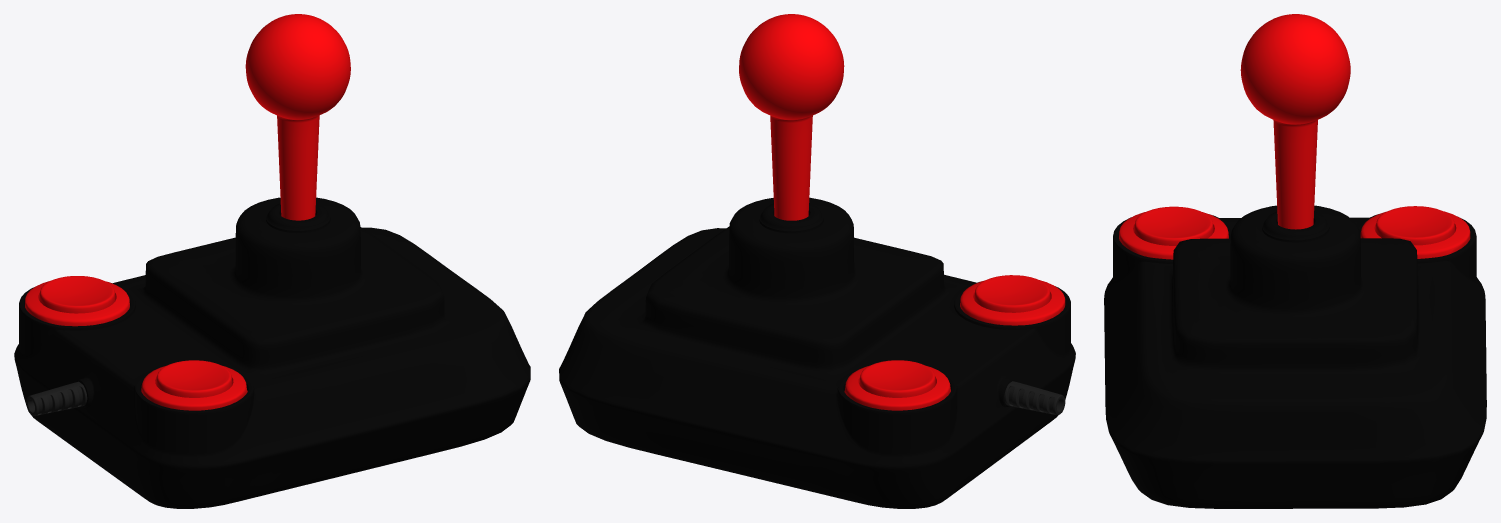
File: joystick.glb
The picture shows the model from 3 angles, left to right: view 1: azimuth 30°, elevation 25°; view 2: azimuth 150°, elevation 25°; view 3: azimuth 270°, elevation 25°; orthographic projection. The views are drawn at different scales.
Visible parts, largest first — view 1: JoystickCompetitionPro_Base_3, JoystickCompetitionPro_Stick_4, button top_1, button collar_0, cable sheath_2; view 2: JoystickCompetitionPro_Base_3, JoystickCompetitionPro_Stick_4, button top_1, button collar_0, cable sheath_2; view 3: JoystickCompetitionPro_Base_3, JoystickCompetitionPro_Stick_4, button top_1, button collar_0.
Part boxes in pixels (x1,y1,x2,y2): JoystickCompetitionPro_Base_3: (14,197,530,508); JoystickCompetitionPro_Stick_4: (245,14,350,220); button top_1: (39,276,232,397); button collar_0: (25,280,247,410); cable sheath_2: (26,381,87,415); JoystickCompetitionPro_Base_3: (559,197,1075,508); JoystickCompetitionPro_Stick_4: (739,14,844,220); button top_1: (859,275,1050,397); button collar_0: (844,280,1065,410); cable sheath_2: (1004,381,1065,415); JoystickCompetitionPro_Base_3: (1104,205,1486,508); JoystickCompetitionPro_Stick_4: (1240,14,1350,229); button top_1: (1134,206,1455,245); button collar_0: (1119,211,1470,259).
Bounding box in the file's own units: 5.64 × 4.78 × 4.06.
